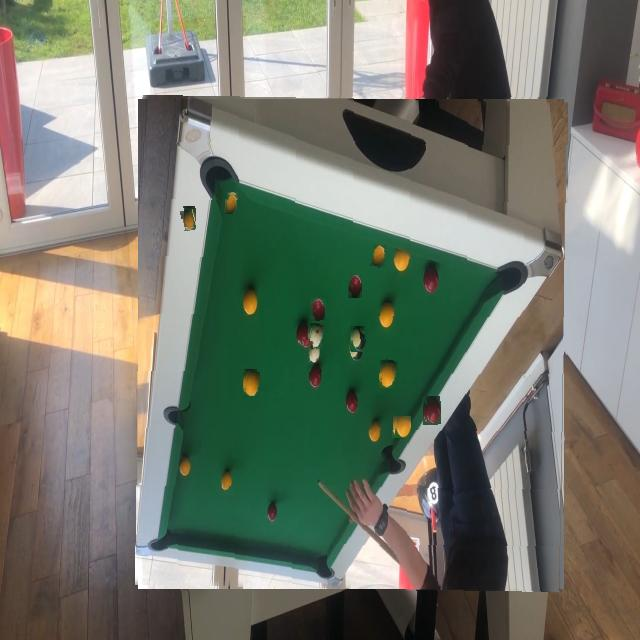Ball: (381, 360, 398, 388), (426, 396, 441, 424), (245, 371, 260, 398), (352, 326, 366, 352), (309, 324, 324, 348), (299, 340, 313, 365), (396, 416, 411, 438), (372, 245, 386, 268), (312, 299, 326, 321), (182, 208, 196, 230), (350, 275, 362, 298), (226, 195, 237, 214), (274, 165, 283, 183)
Billiard table: (138, 97, 568, 591)
